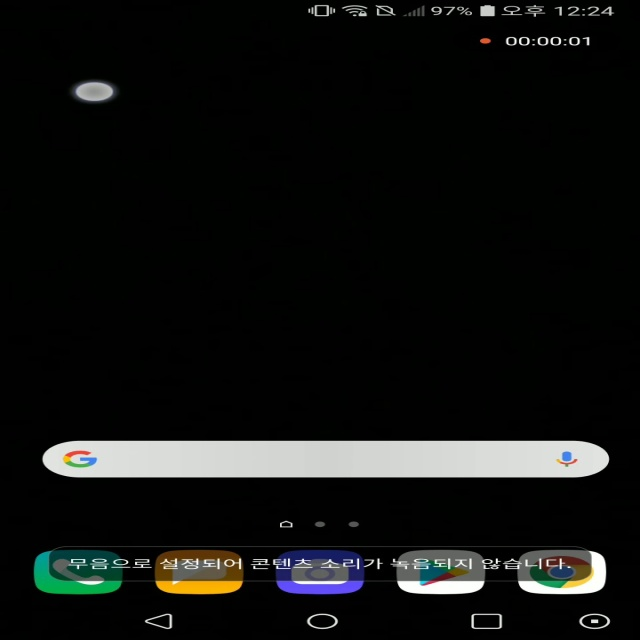Cursor: (73, 81, 118, 104)
